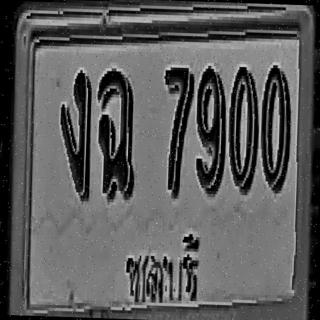A07: (58, 66, 94, 198)
A09: (94, 68, 138, 200)
N00: (226, 63, 260, 192), (259, 60, 292, 192)
N07: (160, 63, 195, 197)
N09: (194, 62, 228, 194)
P13: (117, 232, 206, 315)
